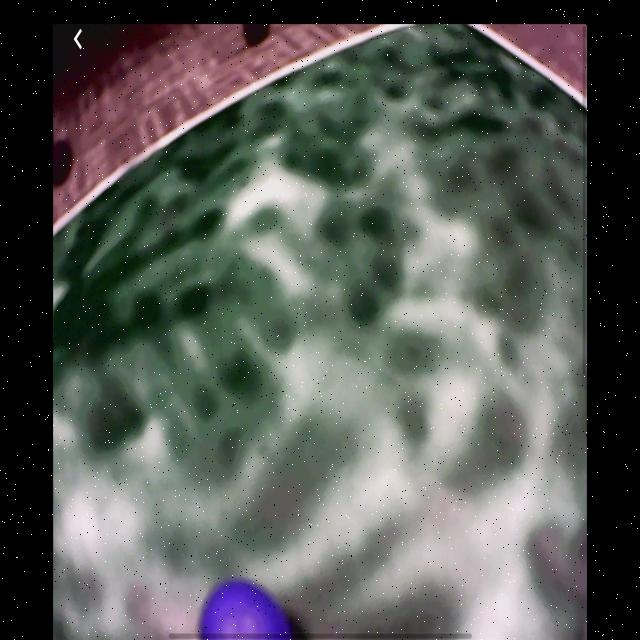ball: (200, 579, 289, 640)
